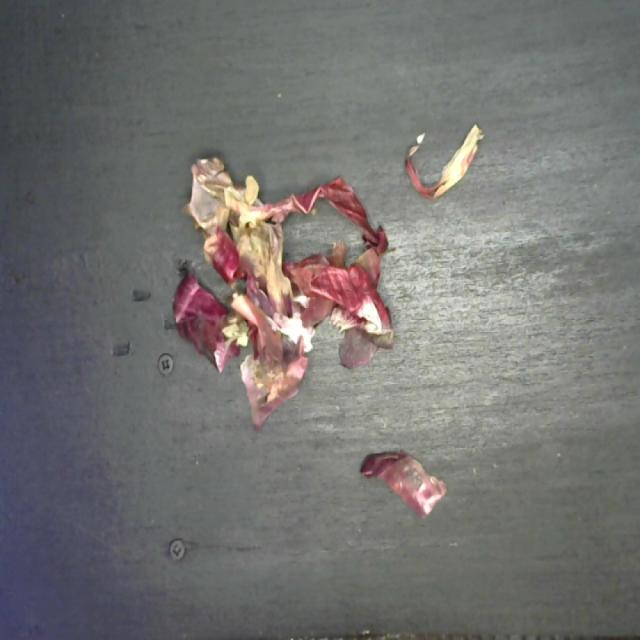biodegradable: (168, 106, 493, 440)
